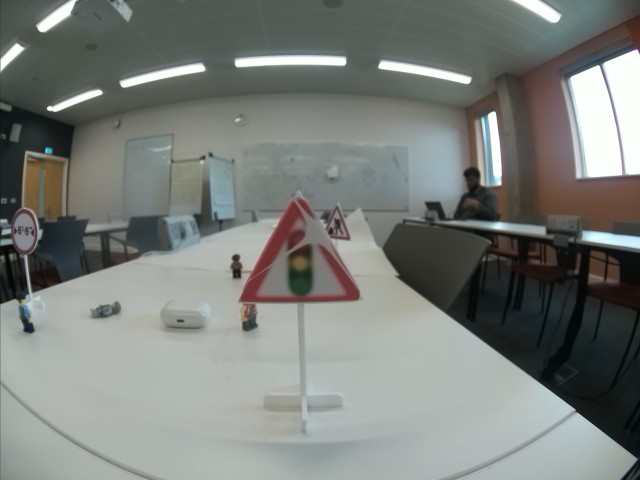6ft6: (9, 206, 40, 256)
Lego Man: (14, 290, 35, 332), (86, 299, 126, 319), (240, 303, 260, 332), (228, 252, 245, 280)
Roadworks: (322, 202, 352, 241)
Traffic lights: (238, 192, 358, 304)
